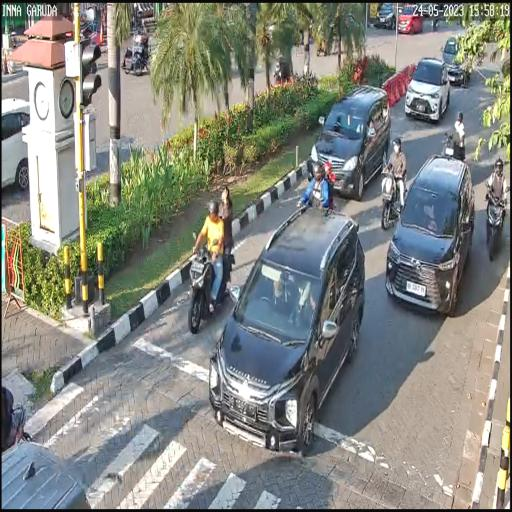mobil: (207, 213, 365, 448), (387, 153, 477, 320), (312, 84, 390, 196), (406, 52, 448, 127)
motor: (184, 230, 234, 335), (484, 180, 507, 263), (379, 162, 405, 230)
